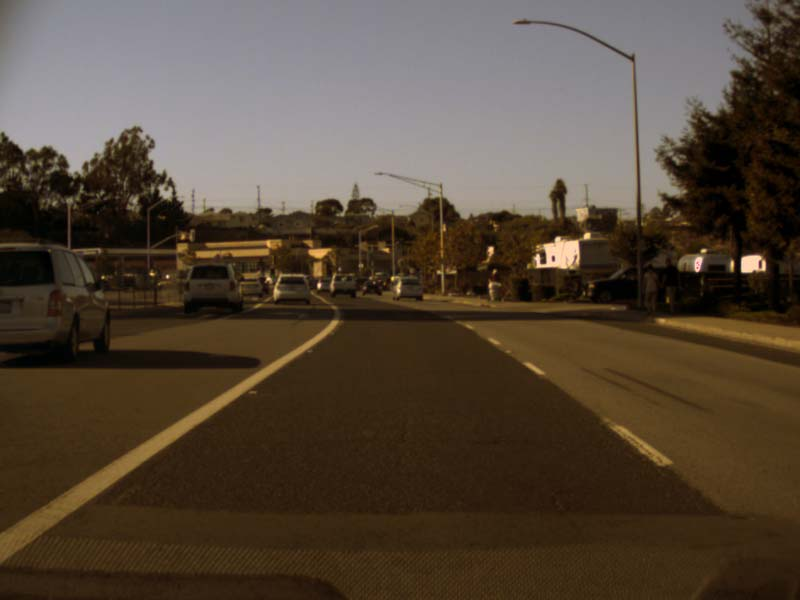Green: (399, 238, 402, 248)
